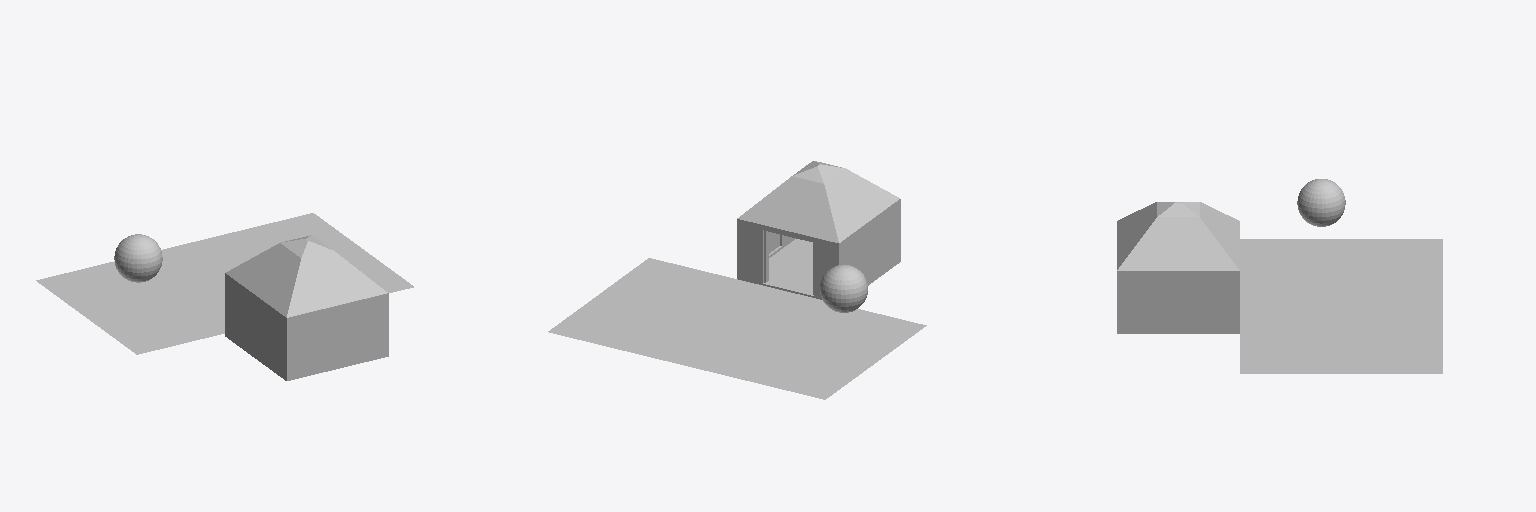
File: mainRoom2.obj
3 views of the same model, side by side, from view 1: azimuth 30°, elevation 25°; view 2: azimuth 150°, elevation 25°; view 3: azimuth 270°, elevation 25° (orthographic).
Visible parts, largest first — view 1: Cube.006, Cube.005, Cube.003, Cube.001; view 2: Cube.006, Cube.005, Cube.004, Cube.001, Cube; view 3: Cube.006, Cube.005, Cube.002, Cube.004.
Part boxes in pixels (bbox=[...]): Cube.006: bbox=[36, 213, 413, 354]; Cube.005: bbox=[225, 235, 388, 322]; Cube.003: bbox=[291, 300, 383, 379]; Cube.001: bbox=[230, 282, 290, 380]; Cube.006: bbox=[548, 258, 926, 399]; Cube.005: bbox=[737, 161, 900, 248]; Cube.004: bbox=[737, 224, 843, 299]; Cube.001: bbox=[844, 204, 900, 285]; Cube: bbox=[769, 239, 812, 290]; Cube.006: bbox=[1240, 179, 1442, 373]; Cube.005: bbox=[1117, 202, 1239, 275]; Cube.002: bbox=[1117, 276, 1228, 333]; Cube.004: bbox=[1229, 276, 1239, 333].
Size of the model in its own units: 60 by 22 by 61.